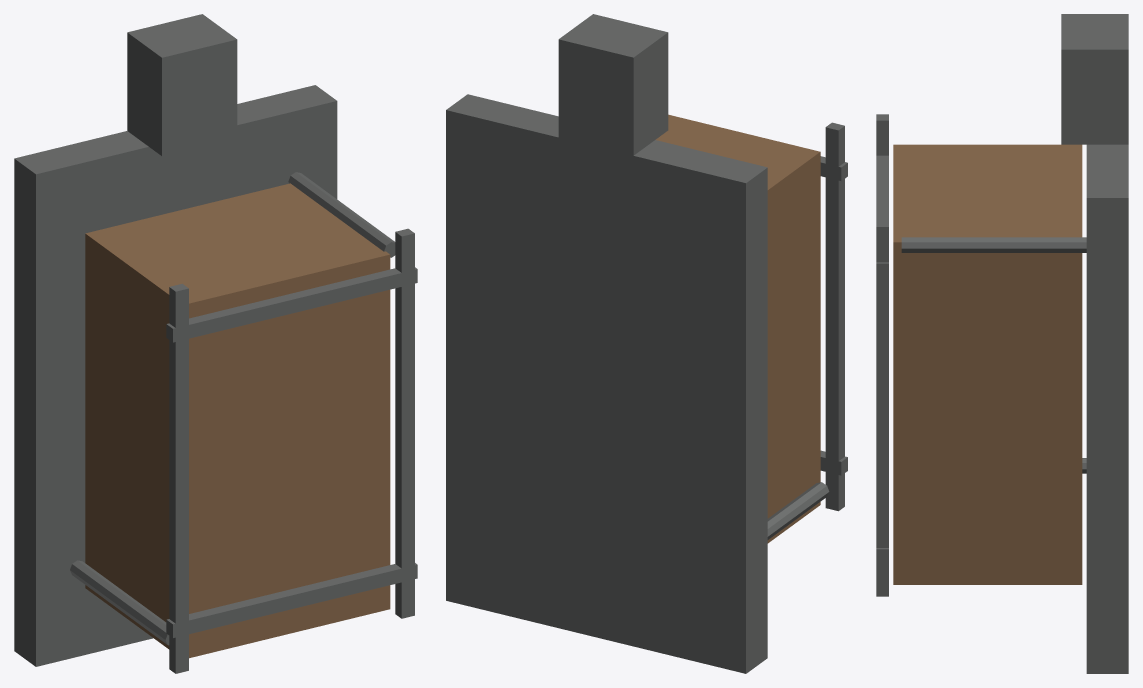
The model's file is hallway-caged-sconce.glb.
3 renders of one model, left to right at view 1: azimuth 30°, elevation 25°; view 2: azimuth 150°, elevation 25°; view 3: azimuth 270°, elevation 25°, orthographic. The views are drawn at different scales.
Parts seen in each view (by area): view 1: shade, metal; view 2: metal, shade; view 3: shade, metal.
Part boxes in pixels (x1,y1,x2,y2): shade: (85,183,390,658); metal: (14,14,417,673); metal: (446,14,847,673); shade: (655,114,820,543); shade: (893,144,1082,584); metal: (876,14,1128,673).
Size of the model in its own units: 0.16 by 0.3 by 0.12.
